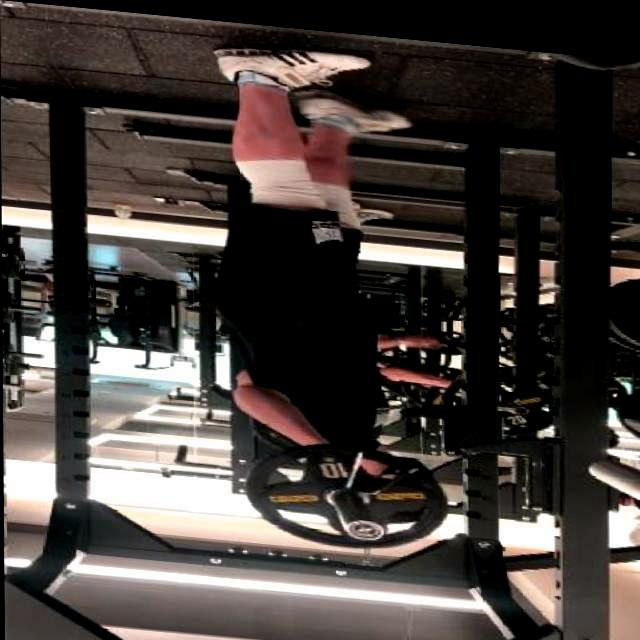barbell: (227, 425, 469, 555)
